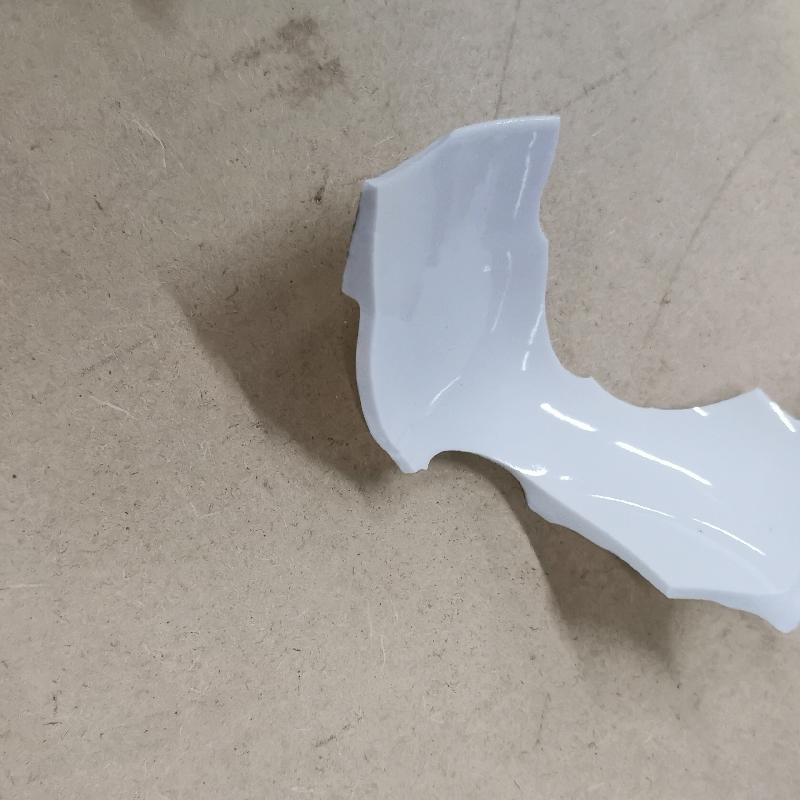ceram: (339, 118, 800, 638)
